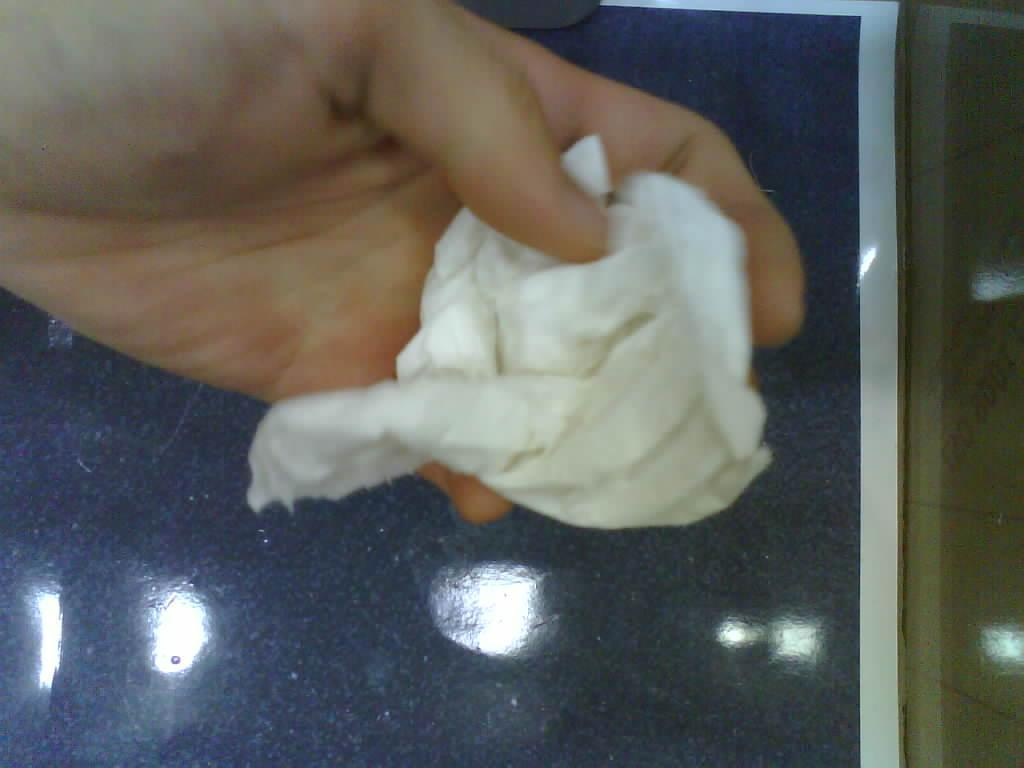paper: (248, 128, 770, 532)
